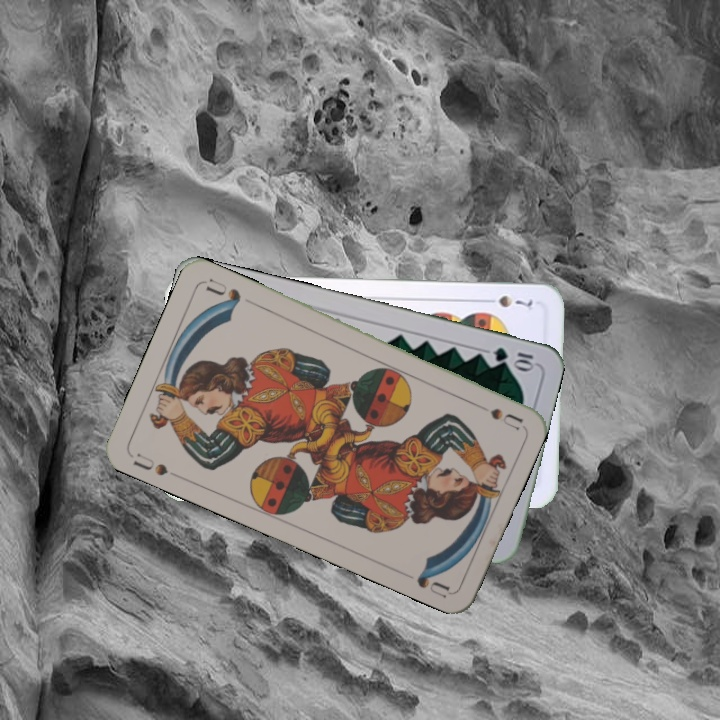G10: (489, 343, 538, 373)
S7: (479, 291, 538, 310)
SU: (467, 397, 525, 432), (129, 448, 184, 481)
